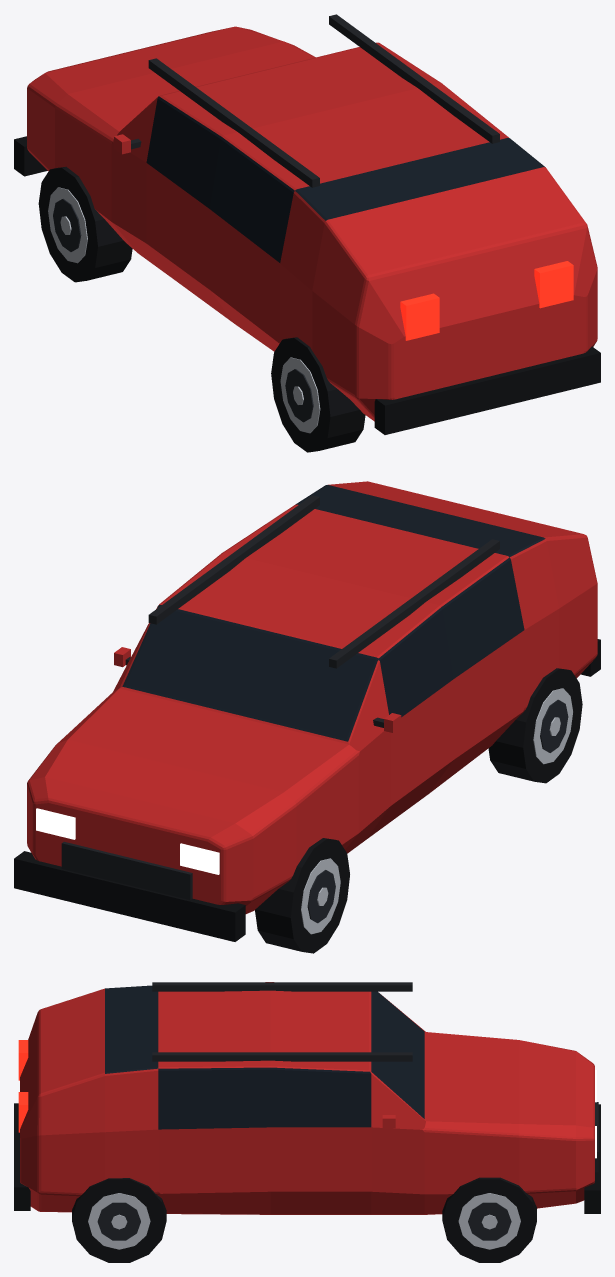
File: traffic_suv.glb
3 renders of one model, top to bottom at view 1: azimuth 30°, elevation 25°; view 2: azimuth 150°, elevation 25°; view 3: azimuth 270°, elevation 25°, orthographic. The views are drawn at different scales.
Parts seen in each view (by area): view 1: Body, Wheel_RL, Wheel_FL; view 2: Body, Wheel_FL, Wheel_RL; view 3: Body, Wheel_FR, Wheel_RR.
Boxes of the visible parts, x1,y1,x2,y2 form: Body: [14, 14, 600, 434]; Wheel_RL: [271, 337, 365, 452]; Wheel_FL: [38, 166, 132, 282]; Body: [14, 481, 600, 941]; Wheel_FL: [255, 838, 349, 953]; Wheel_RL: [488, 668, 582, 783]; Body: [14, 982, 600, 1214]; Wheel_FR: [442, 1177, 536, 1262]; Wheel_RR: [72, 1178, 166, 1262].
Size of the model in its own units: 2.17 by 1.82 by 4.96.
